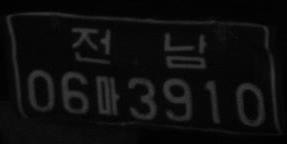0: (234, 81, 266, 129), (26, 68, 57, 113)
1: (199, 78, 229, 125)
3: (126, 76, 158, 121)
6: (60, 70, 91, 116)
9: (162, 76, 194, 123)
마: (95, 74, 120, 117)
전남_D: (69, 23, 208, 71)
